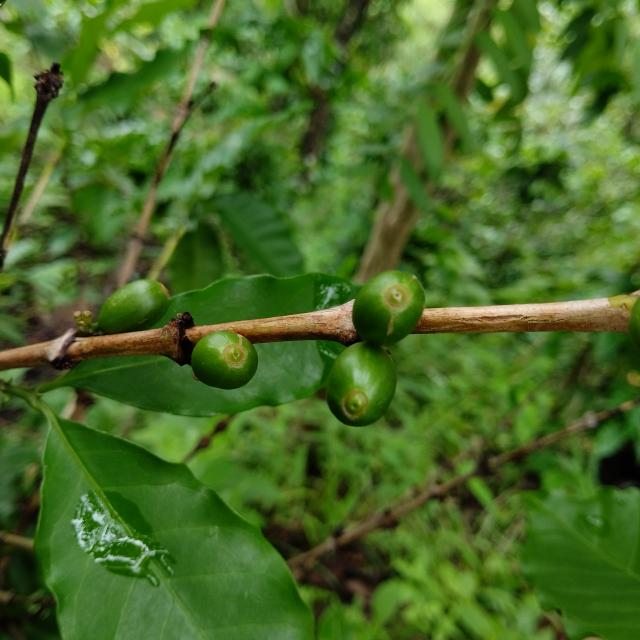green: (326, 342, 397, 427), (353, 270, 425, 345), (353, 270, 425, 345), (97, 279, 170, 334), (191, 331, 258, 390)
